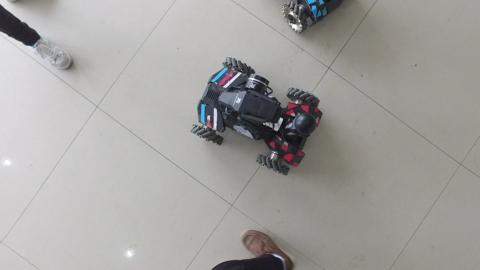chariot: (187, 53, 331, 182)
